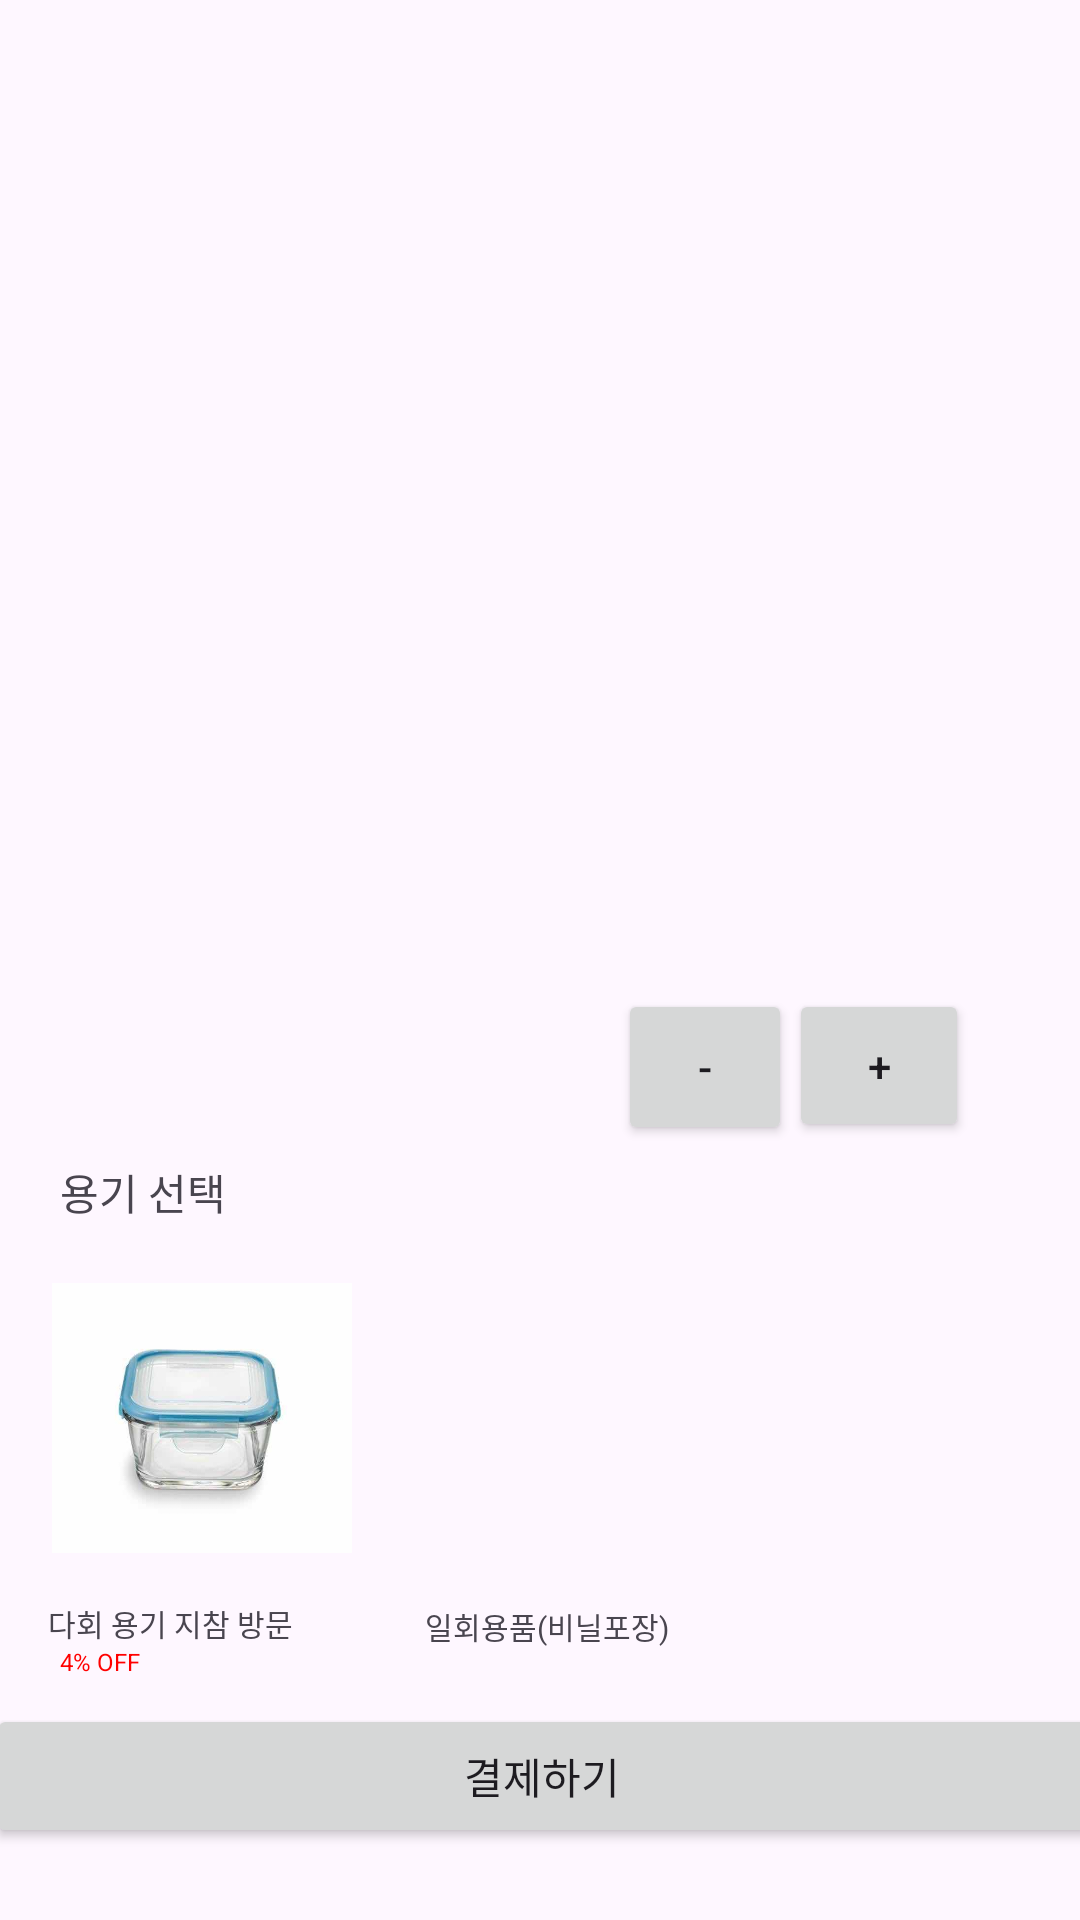

Where to tap for icons on this 1080w x 1920h app screen, as (x,y):
bowl: (199,1425)
